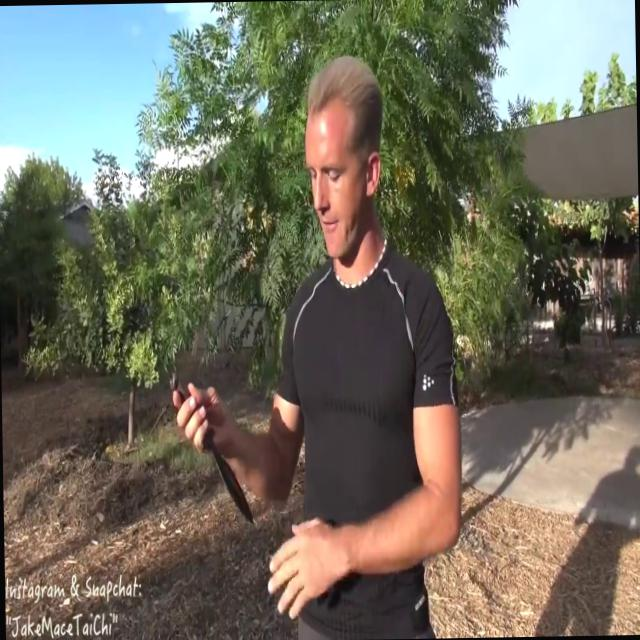knife: (168, 373, 262, 540)
